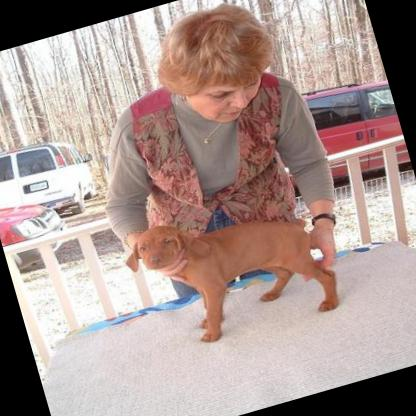vizsla: (116, 182, 344, 362)
